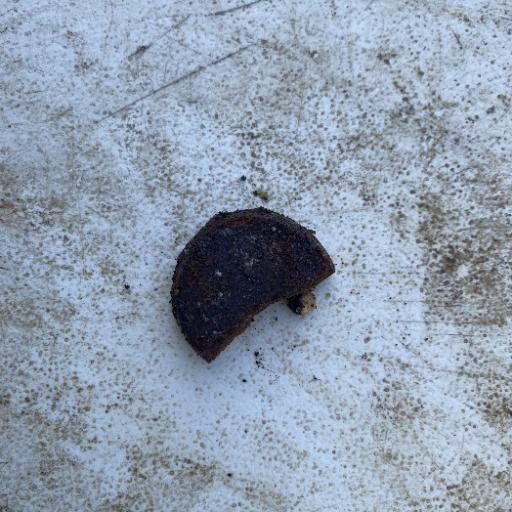Waste: (168, 205, 335, 364)
